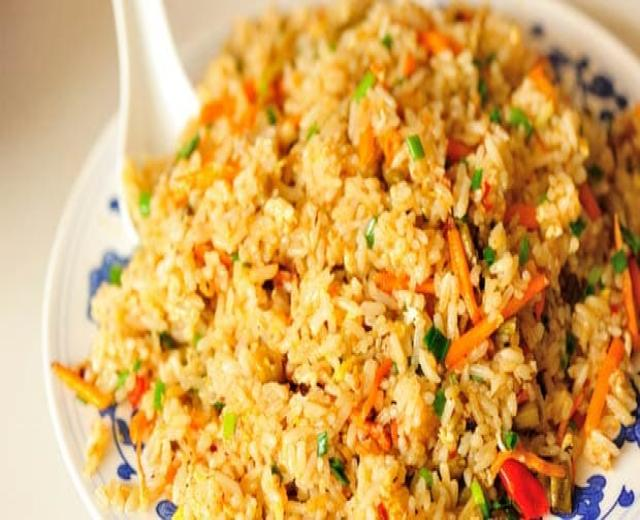fried rice: (54, 1, 637, 518), (41, 112, 154, 520), (106, 0, 200, 240)
